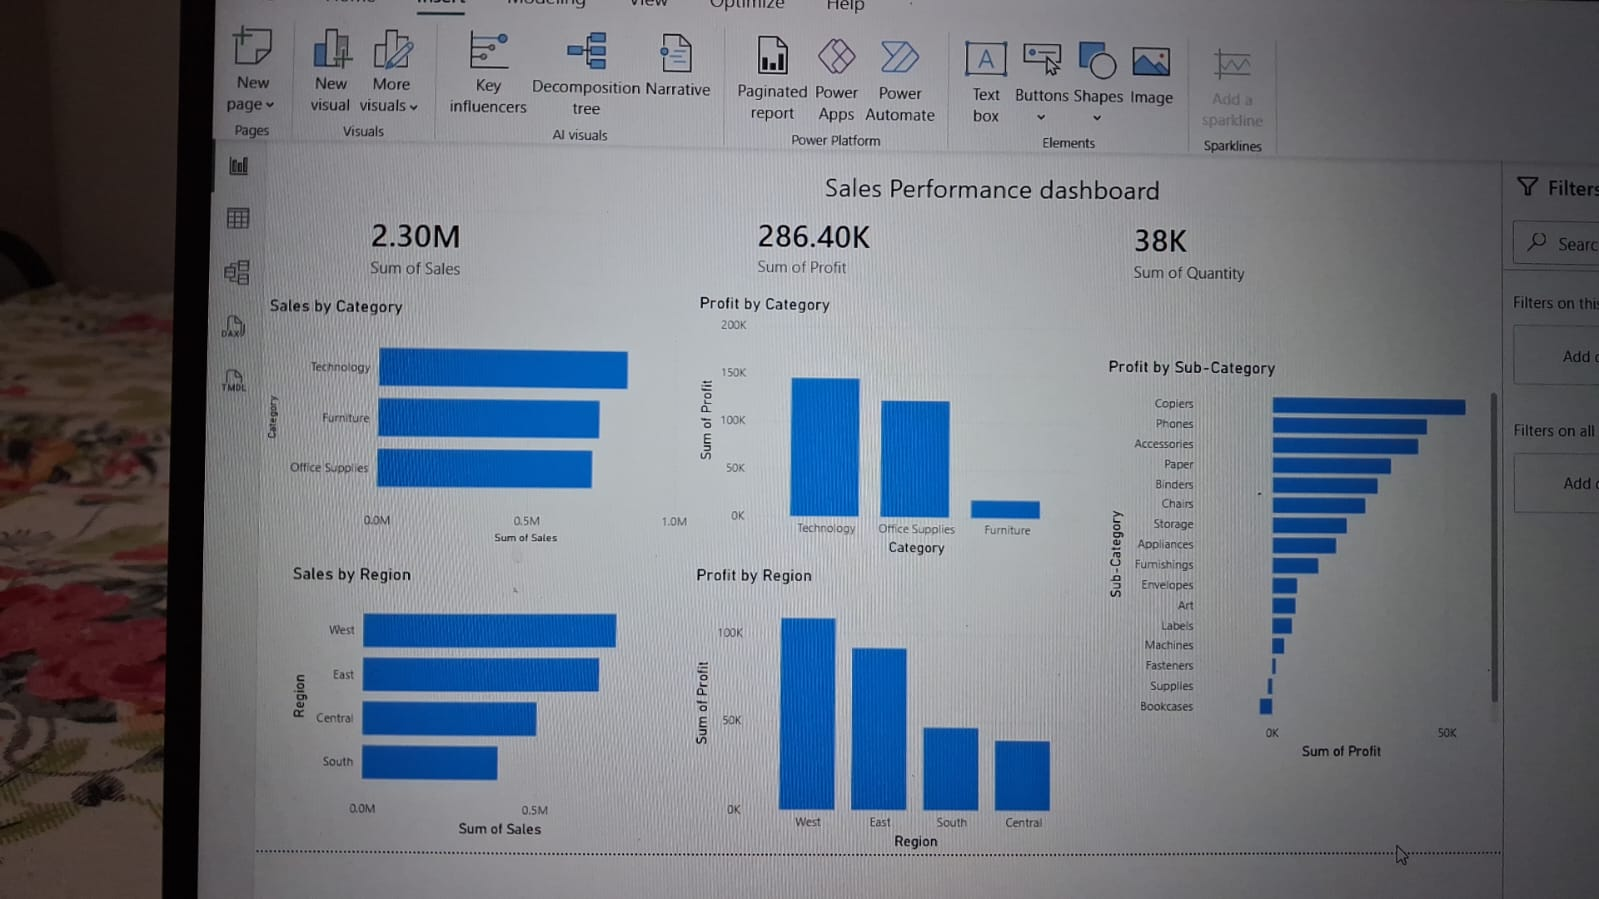

The dashboard page shown, as its layout file describes it:
{"tool":"powerbi","page":{"name":"Page 1","canvas":[1280,720],"ordinal":0},"visuals":[{"type":"cardVisual","fields":{"Data":["Sum(samplestore.Sales)"]},"box":[78.2,53.5,279.9,105.7],"z":0},{"type":"cardVisual","fields":{"Data":["Sum(samplestore.Profit)"]},"box":[470.7,45.3,279.9,105.7],"z":1},{"type":"cardVisual","fields":{"Data":["Sum(samplestore.Quantity)"]},"box":[860.4,46.7,279.9,105.7],"z":2},{"type":"clusteredBarChart","title":" Sales by Category","fields":{"Category":["samplestore.Category"],"Y":["Sum(samplestore.Sales)"]},"box":[1.4,159.2,435,255.2],"z":3},{"type":"clusteredColumnChart","title":" Profit by Category","fields":{"Category":["samplestore.Category"],"Y":["Sum(samplestore.Profit)"]},"box":[436.4,149.6,406.2,274.4],"z":4},{"type":"clusteredBarChart","title":"Sales by Region","fields":{"Category":["samplestore.Region"],"Y":["Sum(samplestore.Sales)"]},"box":[30.2,430.9,376,278.6],"z":5},{"type":"clusteredColumnChart","title":"Profit by Region","fields":{"Category":["samplestore.Region"],"Y":["Sum(samplestore.Profit)"]},"box":[436.4,430.9,406.2,289.5],"z":6},{"type":"clusteredBarChart","title":"Profit by Sub-Category","fields":{"Category":["samplestore.Sub-Category"],"Y":["Sum(samplestore.Profit)"]},"box":[860.4,211.3,419.9,418.5],"z":7},{"type":"textbox","box":[548.9,15.1,389.7,57.6],"z":8},{"type":"textbox","box":[838.4,714.9,100.2,5.5],"z":9}]}

Visuals, with their boxes on the page's 1280x720 design canvas (x1, y1, x2, y2). These are canvas units, not pixel positions in the 1599x899 screenshot, which may show the page scaled, cropped or inside an application window:
cardVisual - Sum(samplestore.Sales): (78, 54, 358, 159)
cardVisual - Sum(samplestore.Profit): (471, 45, 751, 151)
cardVisual - Sum(samplestore.Quantity): (860, 47, 1140, 152)
" Sales by Category" clusteredBarChart: (1, 159, 436, 414)
" Profit by Category" clusteredColumnChart: (436, 150, 843, 424)
"Sales by Region" clusteredBarChart: (30, 431, 406, 710)
"Profit by Region" clusteredColumnChart: (436, 431, 843, 720)
"Profit by Sub-Category" clusteredBarChart: (860, 211, 1280, 630)
textbox: (549, 15, 939, 73)
textbox: (838, 715, 939, 720)
